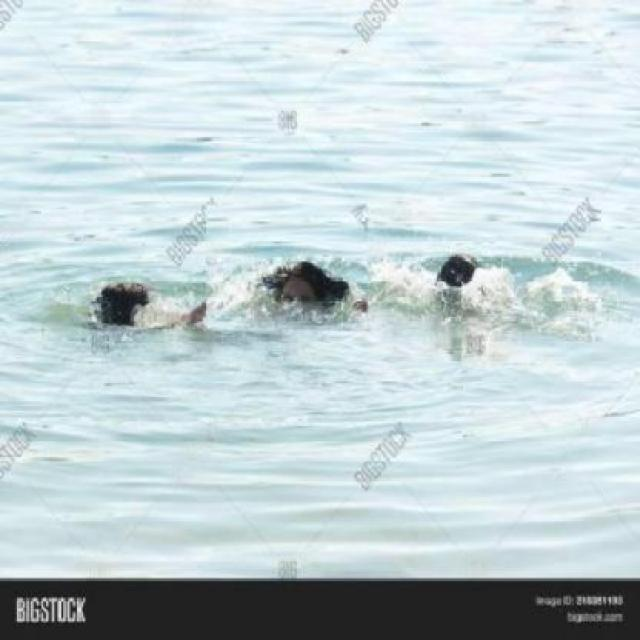drowning: (102, 208, 493, 384)
